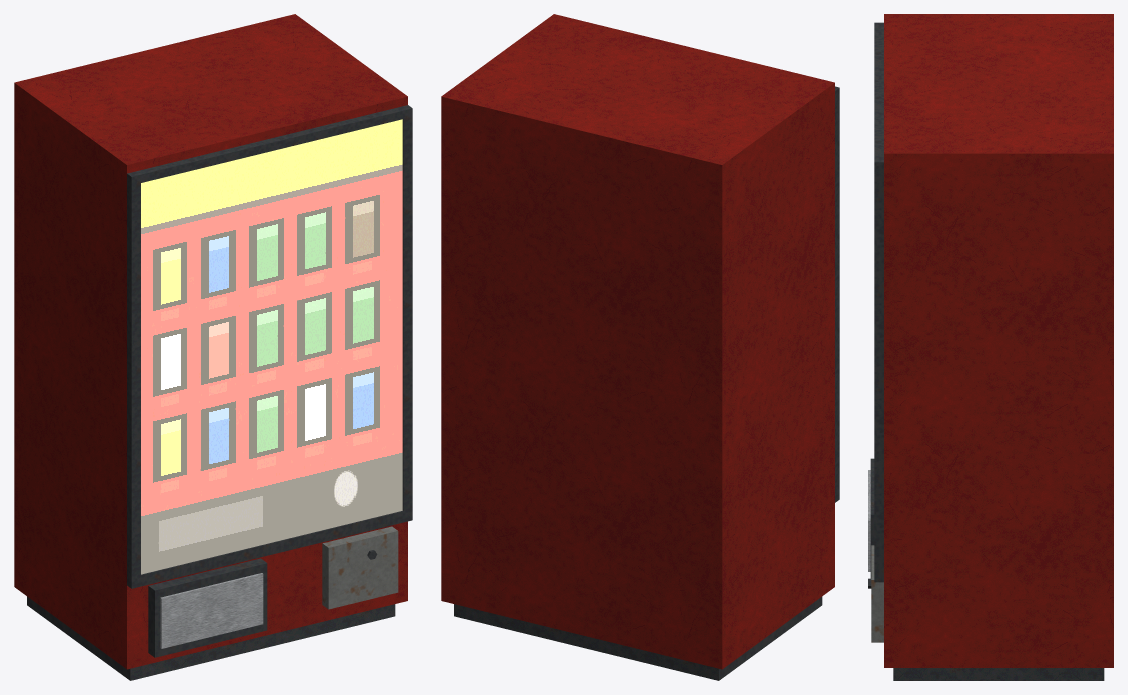
The model's file is vending_machine.glb.
3 renders of one model, left to right at view 1: azimuth 30°, elevation 25°; view 2: azimuth 150°, elevation 25°; view 3: azimuth 270°, elevation 25°, orthographic.
Parts seen in each view (by area): view 1: vending_machine; view 2: vending_machine; view 3: vending_machine.
Boxes of the visible parts, x1,y1,x2,y2 form: vending_machine: (14,14,412,680); vending_machine: (441,14,839,680); vending_machine: (868,14,1113,680).
Size of the model in its own units: 1.05 by 1.86 by 0.78.
5 materials, 5 textured.
